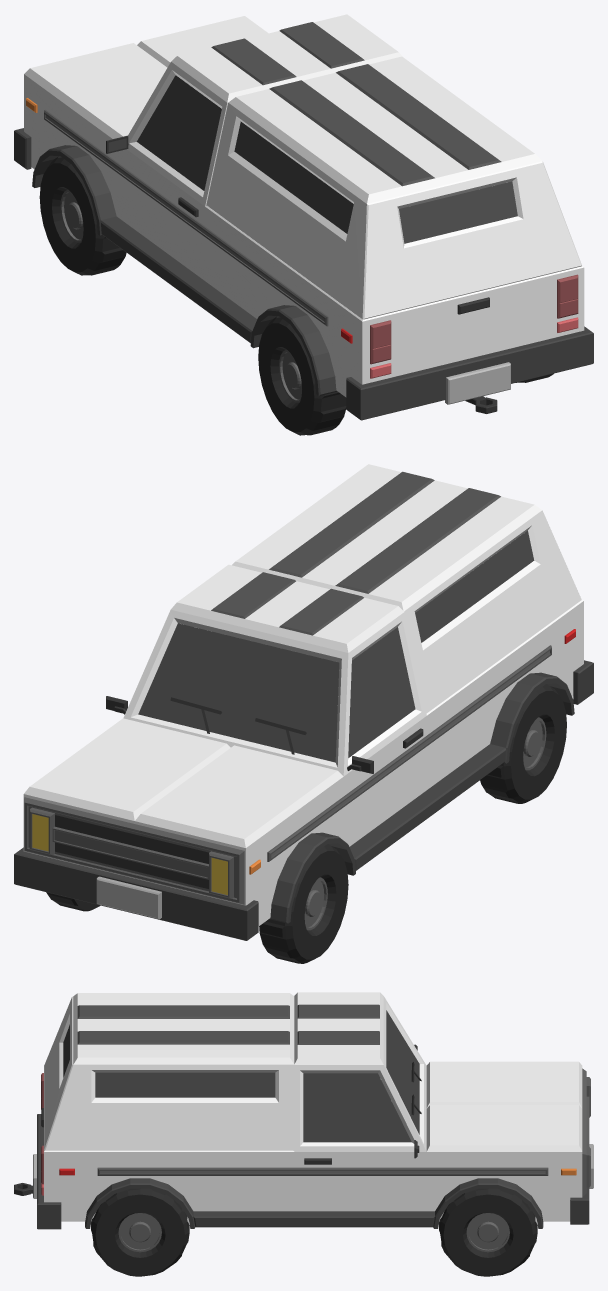
The model's file is suv.glb.
3 renders of one model, top to bottom at view 1: azimuth 30°, elevation 25°; view 2: azimuth 150°, elevation 25°; view 3: azimuth 270°, elevation 25°, orthographic. The views are drawn at different scales.
Visible parts, largest first — view 1: paint, body, wheel_rl, wheel_fl; view 2: paint, body, wheel_fl, wheel_rl; view 3: paint, body, wheel_fr, wheel_rr.
Boxes of the visible parts, left/top/right/bottom form: paint: left=24, top=14, right=584, bottom=397; body: left=14, top=22, right=593, bottom=420; wheel_rl: left=258, top=316, right=346, bottom=435; wheel_fl: left=39, top=156, right=126, bottom=275; paint: left=23, top=464, right=583, bottom=925; body: left=14, top=471, right=593, bottom=940; wheel_fl: left=259, top=844, right=348, bottom=963; wheel_rl: left=480, top=684, right=566, bottom=803; paint: left=44, top=992, right=582, bottom=1221; body: left=14, top=1004, right=593, bottom=1229; wheel_fr: left=439, top=1188, right=537, bottom=1276; wheel_rr: left=91, top=1188, right=189, bottom=1276.
Size of the model in its own units: 1.82 by 1.69 by 4.3.
